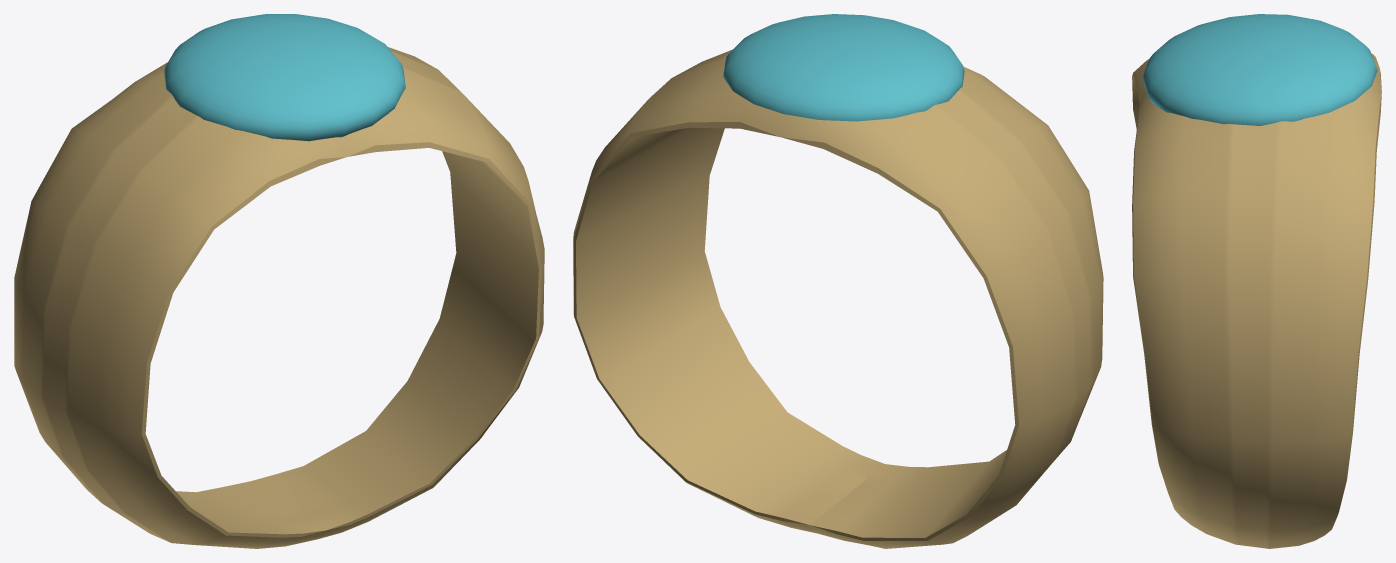
File: Ring.fbx
The picture shows the model from 3 angles, left to right: view 1: azimuth 30°, elevation 25°; view 2: azimuth 150°, elevation 25°; view 3: azimuth 270°, elevation 25°; orthographic projection. The views are drawn at different scales.
Visible parts, largest first — view 1: pPlane2; view 2: pPlane2; view 3: pPlane2.
Part boxes in pixels (x1,y1,x2,y2): pPlane2: (14,14,544,548); pPlane2: (573,14,1103,548); pPlane2: (1132,14,1381,548).
Size of the model in its own units: 2.62 by 2.57 by 1.23.
